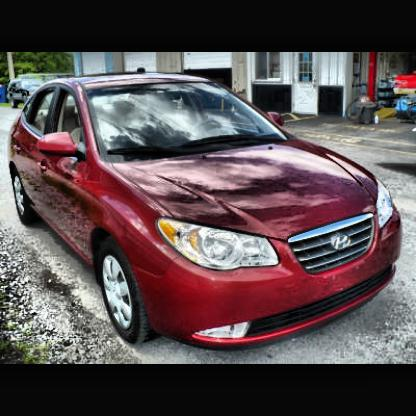Hyundai Elantra Sedan 2007: (9, 71, 404, 351)
